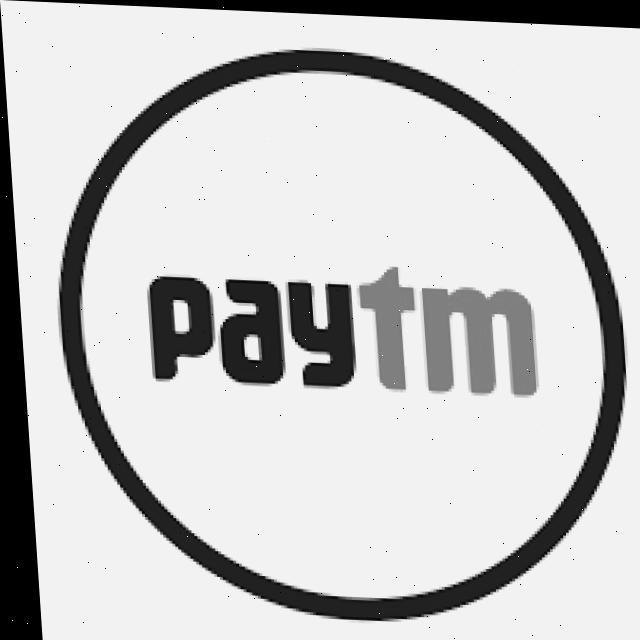fully_visible: (118, 246, 548, 427)
